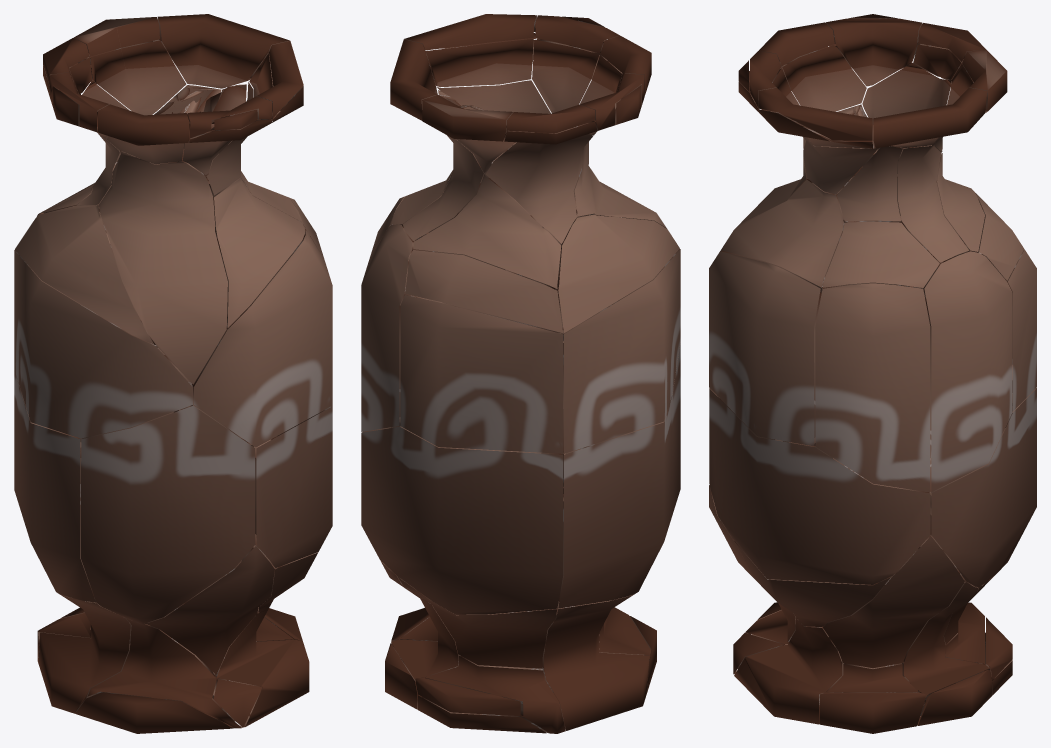
The model's file is Vasija_Rota.fbx.
3 renders of one model, left to right at view 1: azimuth 30°, elevation 25°; view 2: azimuth 150°, elevation 25°; view 3: azimuth 270°, elevation 25°, orthographic.
Parts seen in each view (by area): view 1: Vasija_cell.045, Vasija_cell.012, Vasija_cell.049, Vasija_cell.037, Vasija_cell.033, Vasija_cell.016, Vasija_cell.042, Vasija_cell.010, Vasija_cell.001, Vasija_cell.035, Vasija_cell.047, Vasija_cell.031 (+26 smaller); view 2: Vasija_cell.023, Vasija_cell.019, Vasija_cell.016, Vasija_cell.049, Vasija_cell.042, Vasija_cell.031, Vasija_cell.041, Vasija_cell.039, Vasija_cell.038, Vasija_cell.030, Vasija_cell.028, Vasija_cell.008 (+26 smaller); view 3: Vasija_cell.033, Vasija_cell.014, Vasija_cell.037, Vasija_cell.041, Vasija_cell.023, Vasija_cell.013, Vasija_cell.010, Vasija_cell.034, Vasija_cell.046, Vasija_cell.006, Vasija_cell.011, Vasija_cell.036 (+27 smaller).
Boxes of the visible parts, x1,y1,x2,y2 form: Vasija_cell.045: (81,404,255,623); Vasija_cell.012: (99,149,227,384); Vasija_cell.049: (14,250,192,438); Vasija_cell.037: (192,230,332,447); Vasija_cell.033: (174,405,332,568); Vasija_cell.016: (14,370,95,602); Vasija_cell.042: (15,205,155,344); Vasija_cell.010: (209,177,305,328); Vasija_cell.001: (145,545,274,674); Vasija_cell.035: (87,618,241,728); Vasija_cell.047: (157,14,289,88); Vasija_cell.031: (39,595,131,713); Vasija_cell.023: (361,426,563,614); Vasija_cell.019: (400,295,563,453); Vasija_cell.016: (557,396,672,608); Vasija_cell.049: (558,249,680,453); Vasija_cell.042: (555,214,679,332); Vasija_cell.031: (542,595,649,730); Vasija_cell.041: (361,225,453,431); Vasija_cell.039: (413,174,561,289); Vasija_cell.038: (405,250,562,333); Vasija_cell.030: (485,134,593,243); Vasija_cell.028: (397,576,557,668); Vasija_cell.008: (424,655,565,733); Vasija_cell.033: (709,389,930,584); Vasija_cell.014: (815,283,930,492); Vasija_cell.037: (709,251,821,446); Vasija_cell.041: (923,251,1012,492); Vasija_cell.023: (930,388,1036,587); Vasija_cell.013: (823,535,964,668); Vasija_cell.010: (720,179,847,292); Vasija_cell.034: (734,617,843,724); Vasija_cell.046: (822,221,939,288); Vasija_cell.006: (877,142,969,262); Vasija_cell.011: (826,18,921,86); Vasija_cell.036: (733,540,890,626).
Size of the model in its own units: 73.1 by 149 by 73.1.
